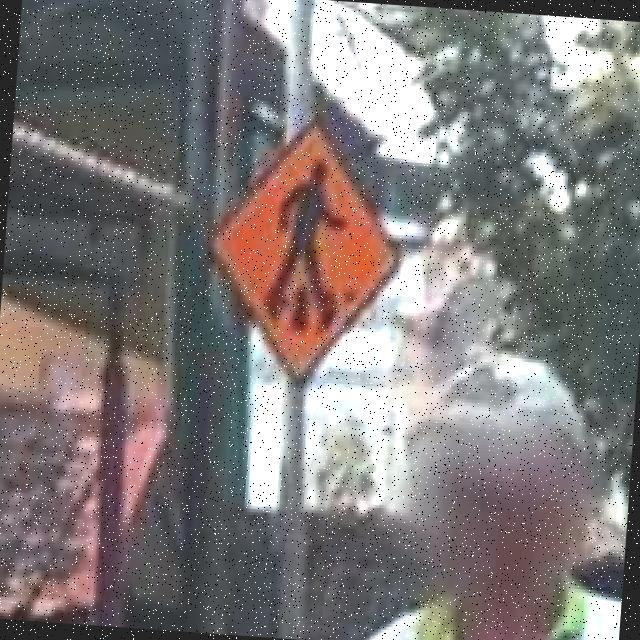Przejscie dla pieszych: (210, 123, 404, 384)
